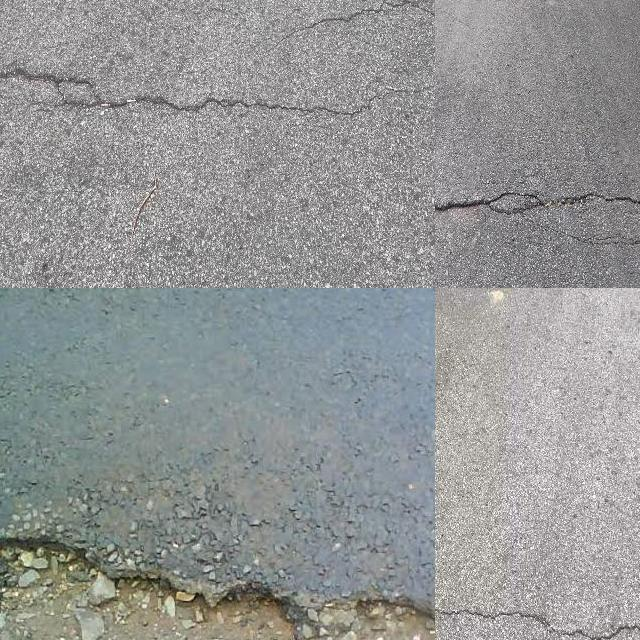Melintang: (0, 515, 435, 640), (0, 63, 374, 129), (435, 590, 640, 640), (435, 188, 640, 222), (289, 0, 435, 42)
